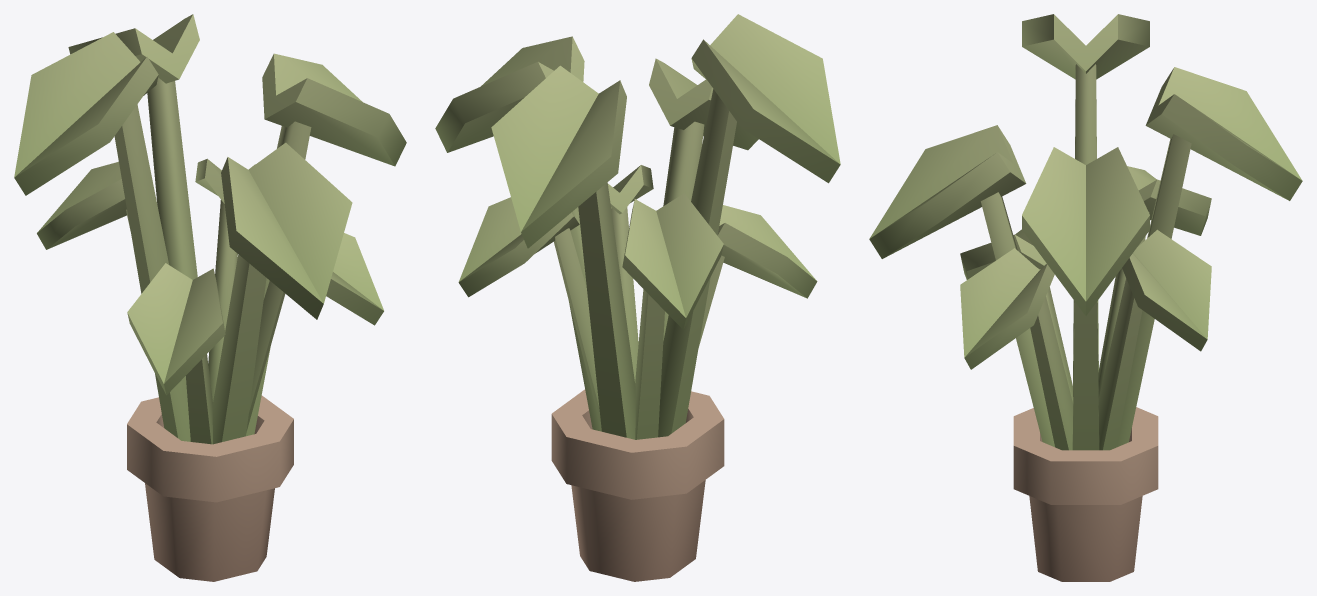
File: plant-leaves.glb
3 renders of one model, left to right at view 1: azimuth 30°, elevation 25°; view 2: azimuth 150°, elevation 25°; view 3: azimuth 270°, elevation 25°, orthographic. The views are drawn at different scales.
Visible parts, largest first — view 1: plant-leaves; view 2: plant-leaves; view 3: plant-leaves.
Part boxes in pixels (x1,y1,x2,y2): plant-leaves: (14, 14, 406, 581); plant-leaves: (435, 14, 840, 581); plant-leaves: (869, 14, 1302, 581).
Bounding box in the file's own units: 0.6763 × 0.8783 × 0.6763.
